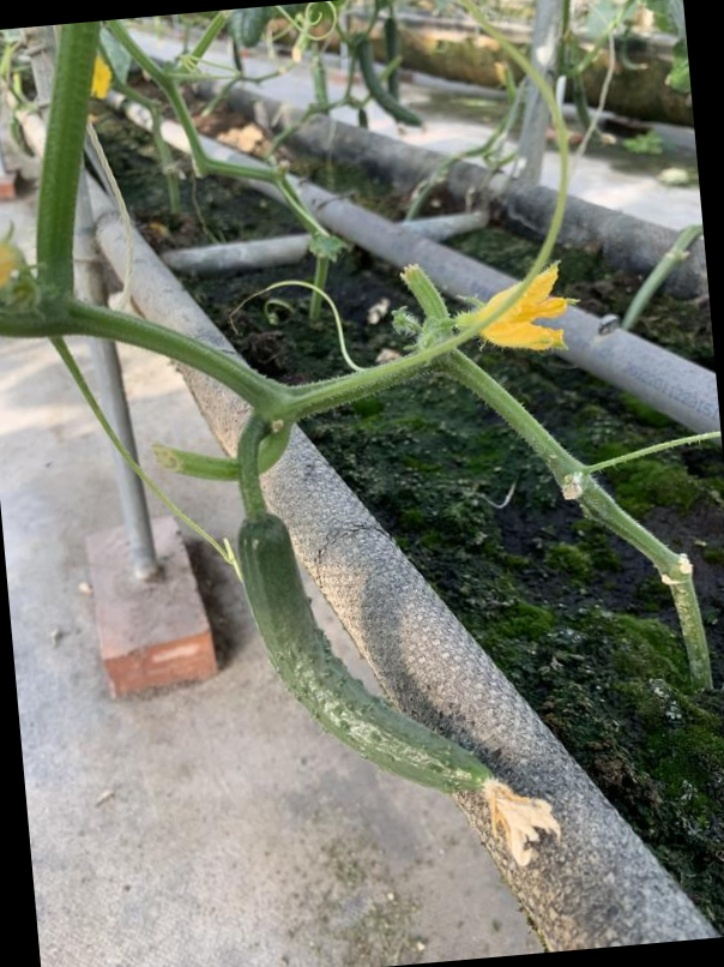bud: (452, 268, 572, 356)
growth: (227, 496, 565, 859)
